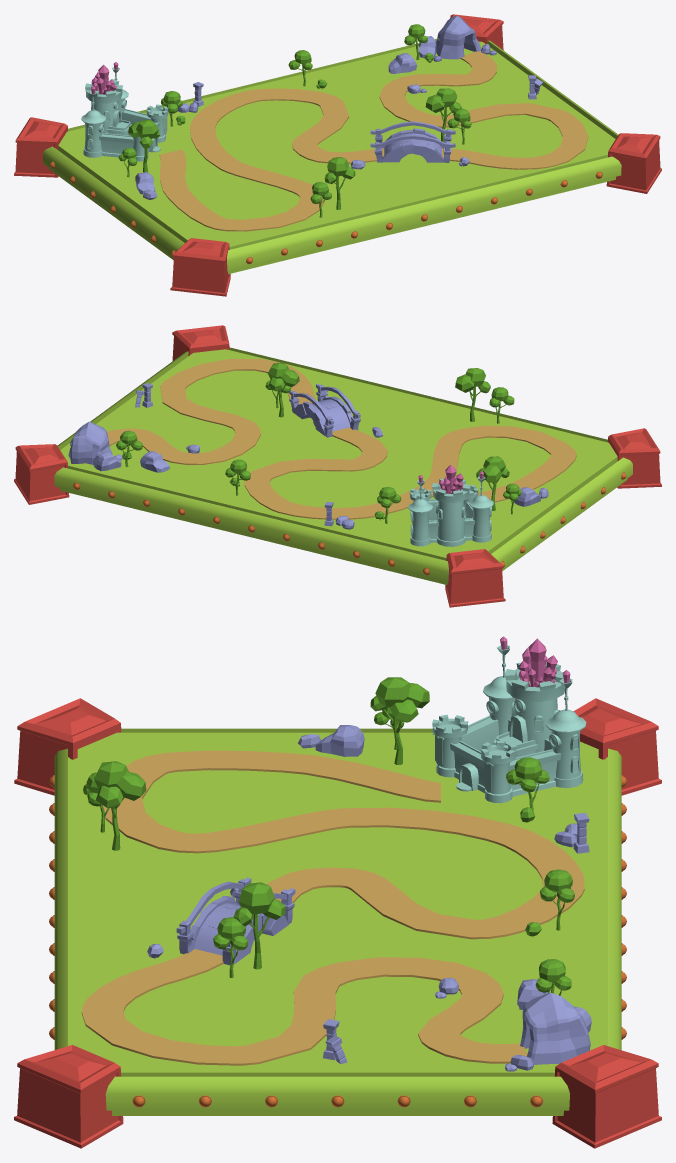
Rendered from main_scene_unity.fbx.
3 views of the same model, one above another, from view 1: azimuth 30°, elevation 25°; view 2: azimuth 150°, elevation 25°; view 3: azimuth 270°, elevation 25° (orthographic). The views are drawn at different scales.
Visible parts, largest first — view 1: Plane, BezierCurve, Cube.032, Cube.004, Cube.047, Cylinder.003, Sphere.005, Sphere.001, Cylinder.004, Sphere.004, Sphere.012, Cube.013 (+5 smaller); view 2: Plane, BezierCurve, Cube.032, Cube.004, Cube.047, Cylinder.003, Cylinder.005, Cylinder.004, Sphere.004, Sphere.005, Sphere.001, Sphere.012 (+6 smaller); view 3: Plane, BezierCurve, Cube.032, Cube.047, Cube.004, Cylinder.003, Sphere.012, Sphere.001, Sphere.004, Sphere.005, Cylinder.005, Cube.013 (+10 smaller).
Part boxes in pixels (left/top/right/bottom): Plane: left=43, top=38, right=621, bottom=274; BezierCurve: left=159, top=51, right=588, bottom=231; Cube.032: left=14, top=14, right=661, bottom=296; Cube.004: left=370, top=121, right=455, bottom=162; Cube.047: left=418, top=15, right=496, bottom=61; Cylinder.003: left=85, top=79, right=122, bottom=133; Sphere.005: left=425, top=88, right=461, bottom=142; Sphere.001: left=50, top=161, right=602, bottom=264; Cylinder.004: left=81, top=110, right=105, bottom=157; Sphere.004: left=324, top=157, right=355, bottom=209; Sphere.012: left=128, top=120, right=160, bottom=172; Cube.013: left=99, top=109, right=159, bottom=143; Plane: left=54, top=347, right=632, bottom=584; BezierCurve: left=107, top=359, right=576, bottom=519; Cube.032: left=14, top=325, right=661, bottom=607; Cube.004: left=289, top=383, right=360, bottom=437; Cube.047: left=68, top=421, right=122, bottom=471; Cylinder.003: left=432, top=478, right=469, bottom=546; Cylinder.005: left=408, top=498, right=432, bottom=546; Cylinder.004: left=469, top=494, right=493, bottom=542; Sphere.004: left=455, top=368, right=490, bottom=421; Sphere.005: left=267, top=363, right=299, bottom=417; Sphere.001: left=73, top=472, right=626, bottom=575; Sphere.012: left=476, top=456, right=509, bottom=510; Plane: left=54, top=728, right=621, bottom=1115; BezierCurve: left=81, top=750, right=584, bottom=1065; Cube.032: left=14, top=698, right=661, bottom=1148; Cube.047: left=505, top=993, right=591, bottom=1071; Cube.004: left=176, top=877, right=295, bottom=965; Cylinder.003: left=505, top=662, right=564, bottom=752; Sphere.012: left=370, top=677, right=429, bottom=764; Sphere.001: left=49, top=775, right=626, bottom=1107; Sphere.004: left=94, top=761, right=146, bottom=850; Sphere.005: left=233, top=882, right=285, bottom=969; Cylinder.005: left=545, top=709, right=586, bottom=787; Cube.013: left=450, top=715, right=561, bottom=771.
Size of the model in its own units: 6571 by 1359 by 4572.
